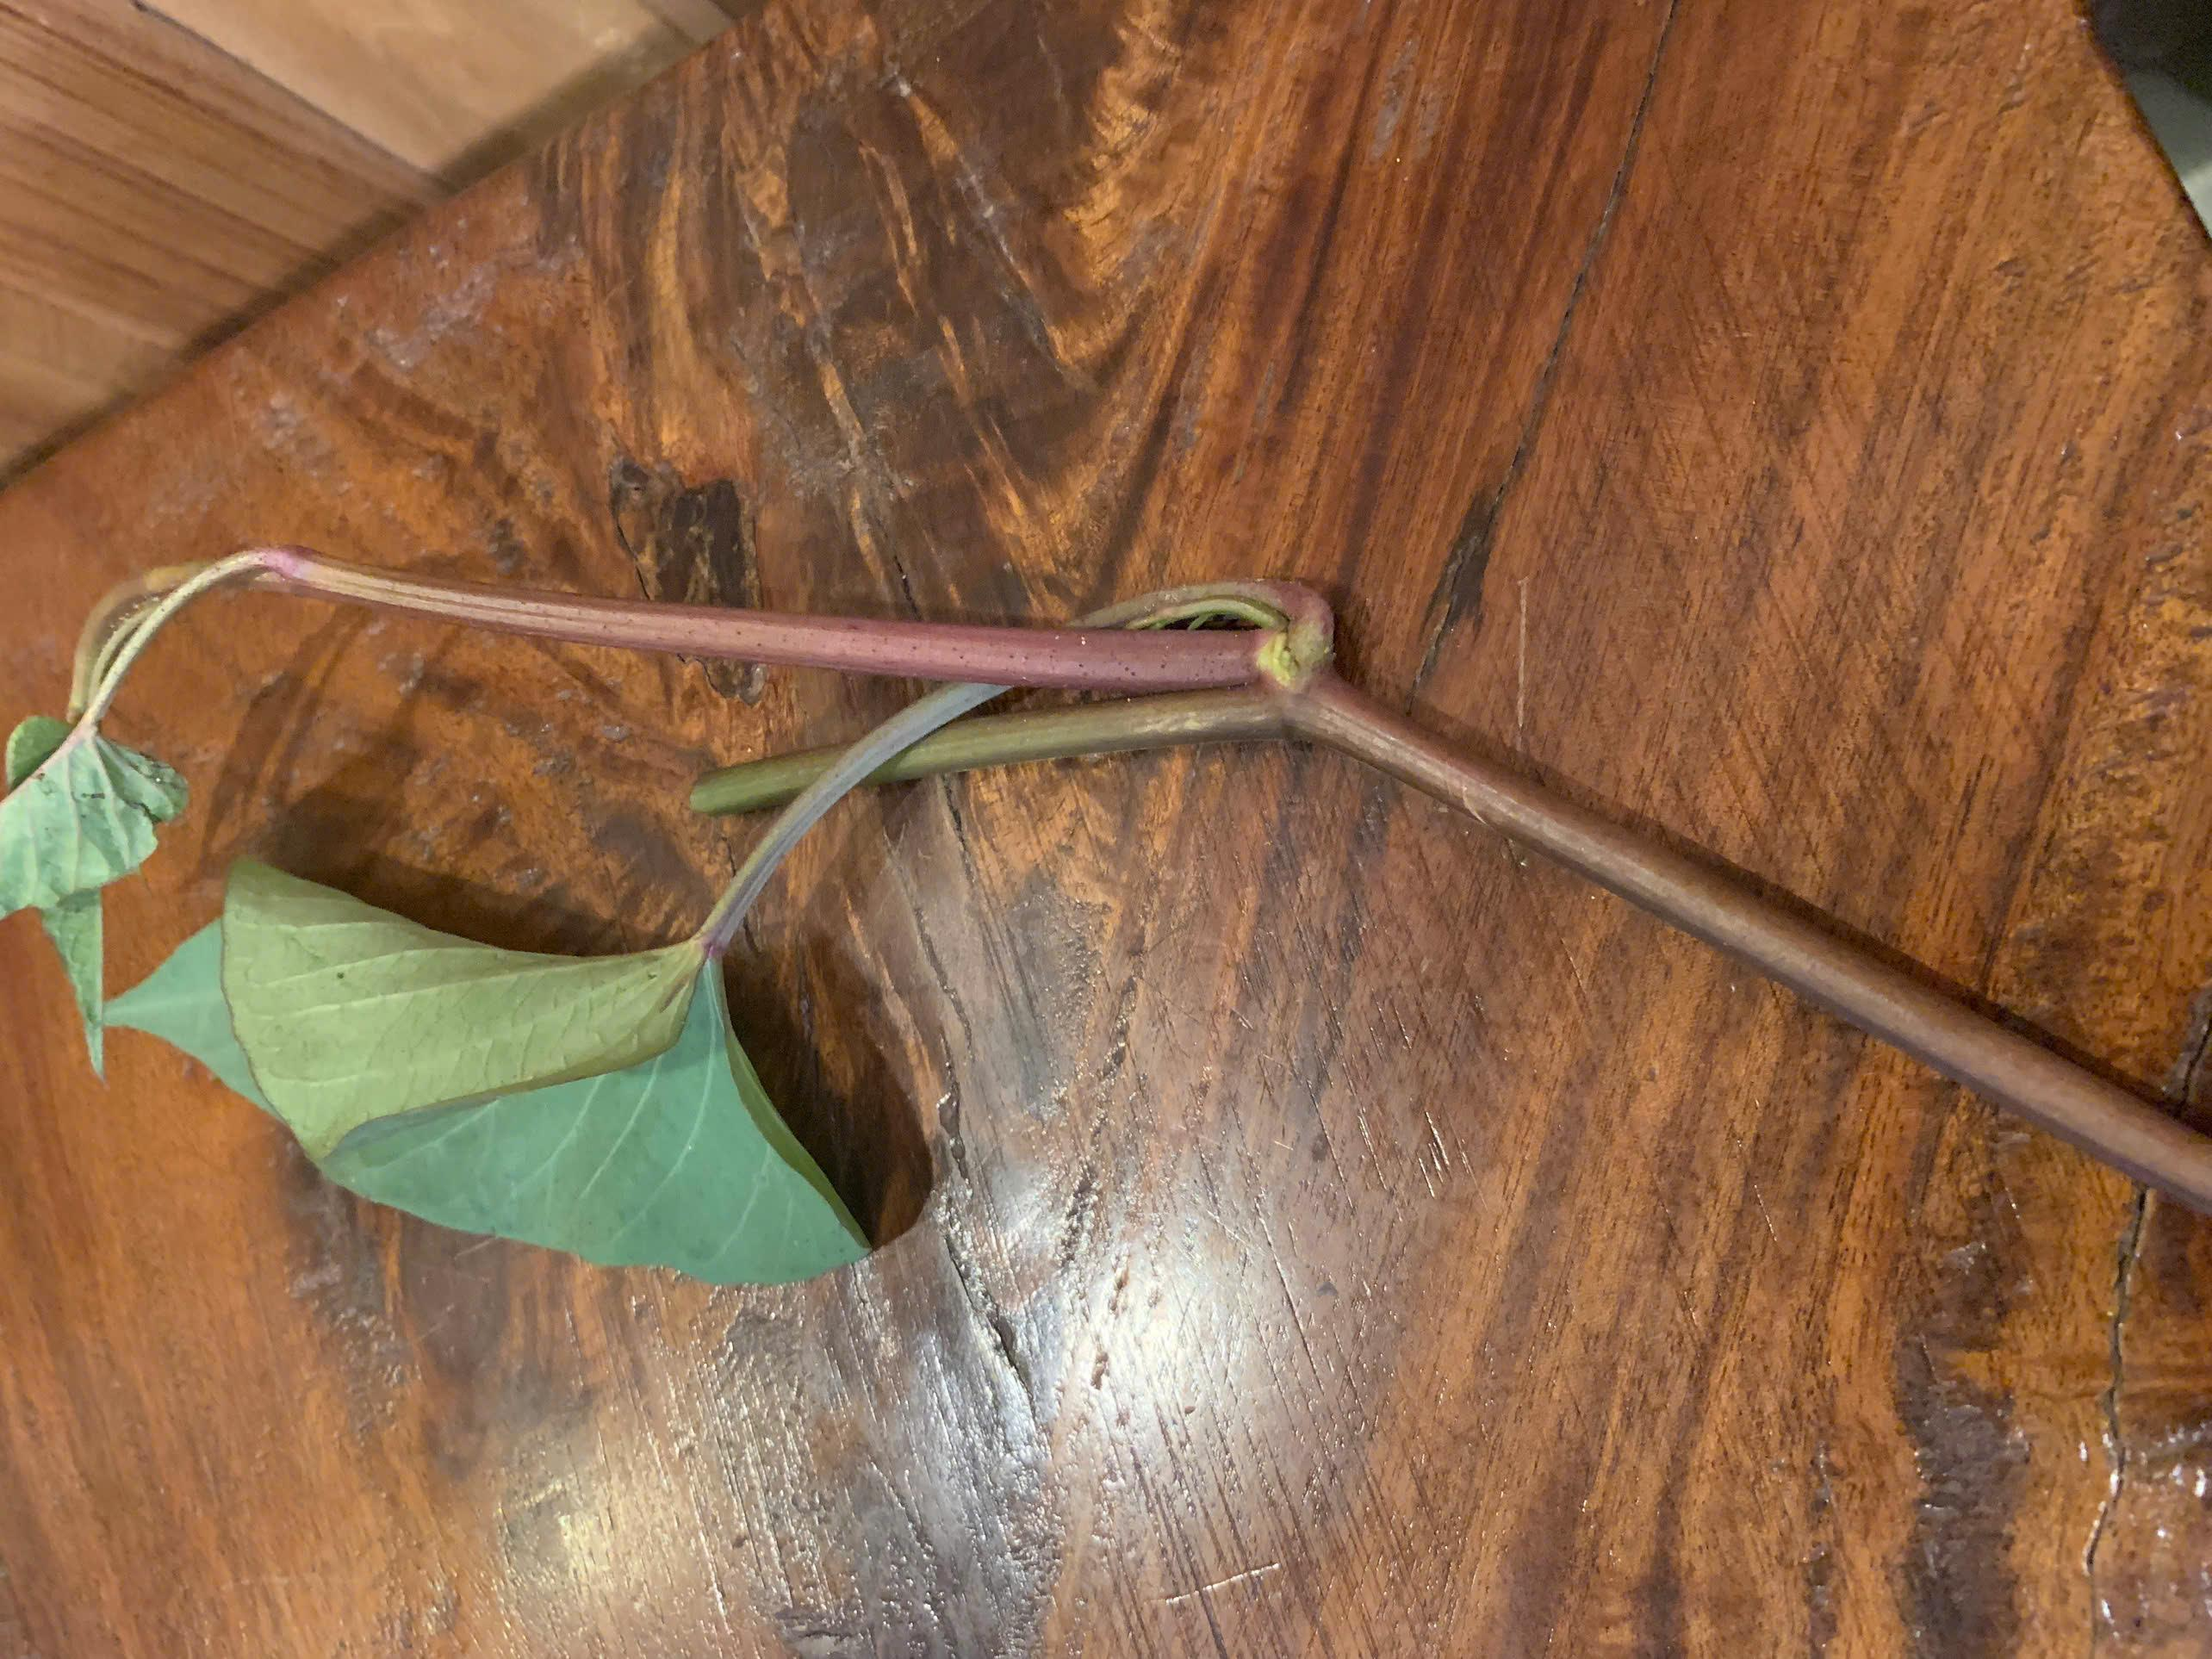Huu co: (14, 572, 2047, 1283)
